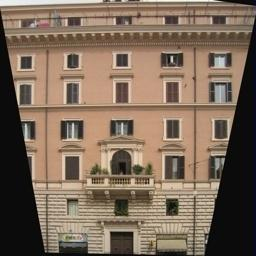building: (4, 1, 254, 256)
